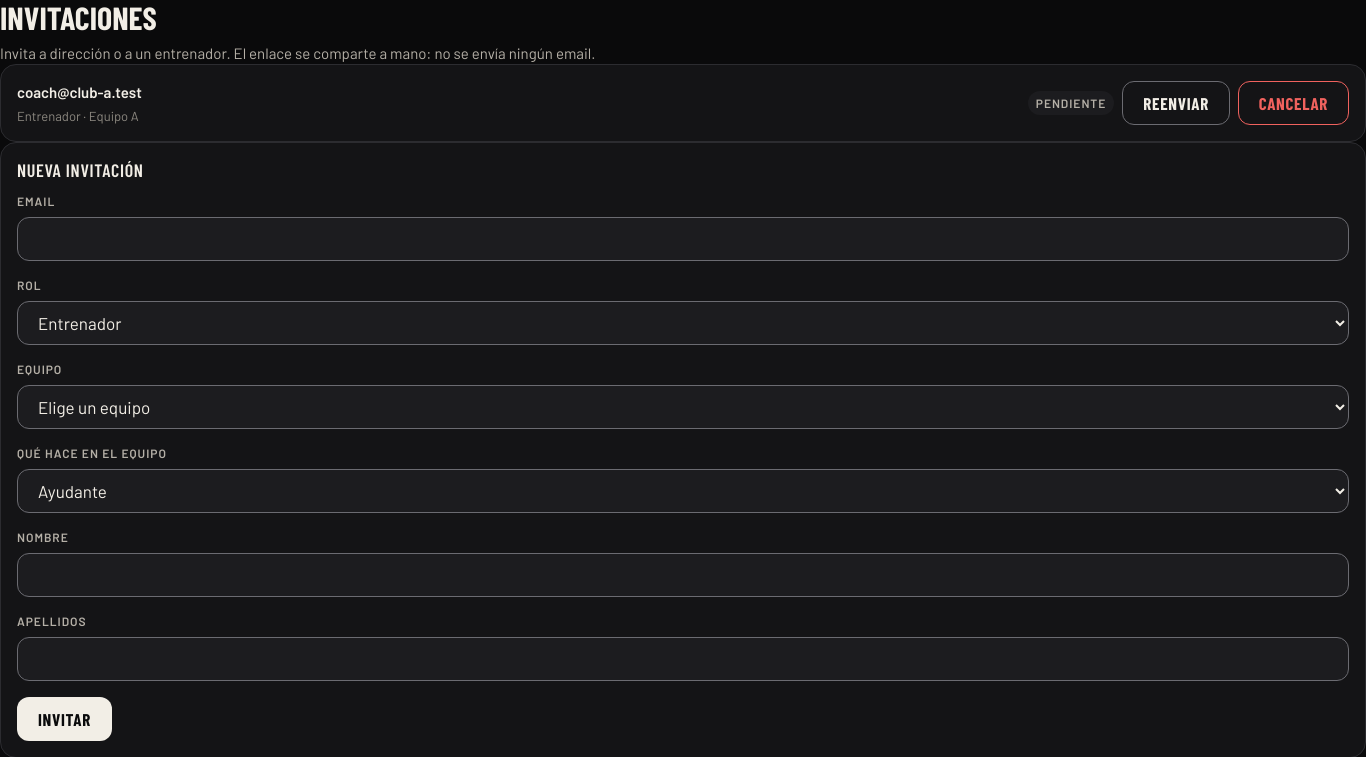
Test: InvitesScreen › reenviar pide un token nuevo y lo enseña
Click the button "Reenviar" at (1176, 103), box [1122,81,1230,125]
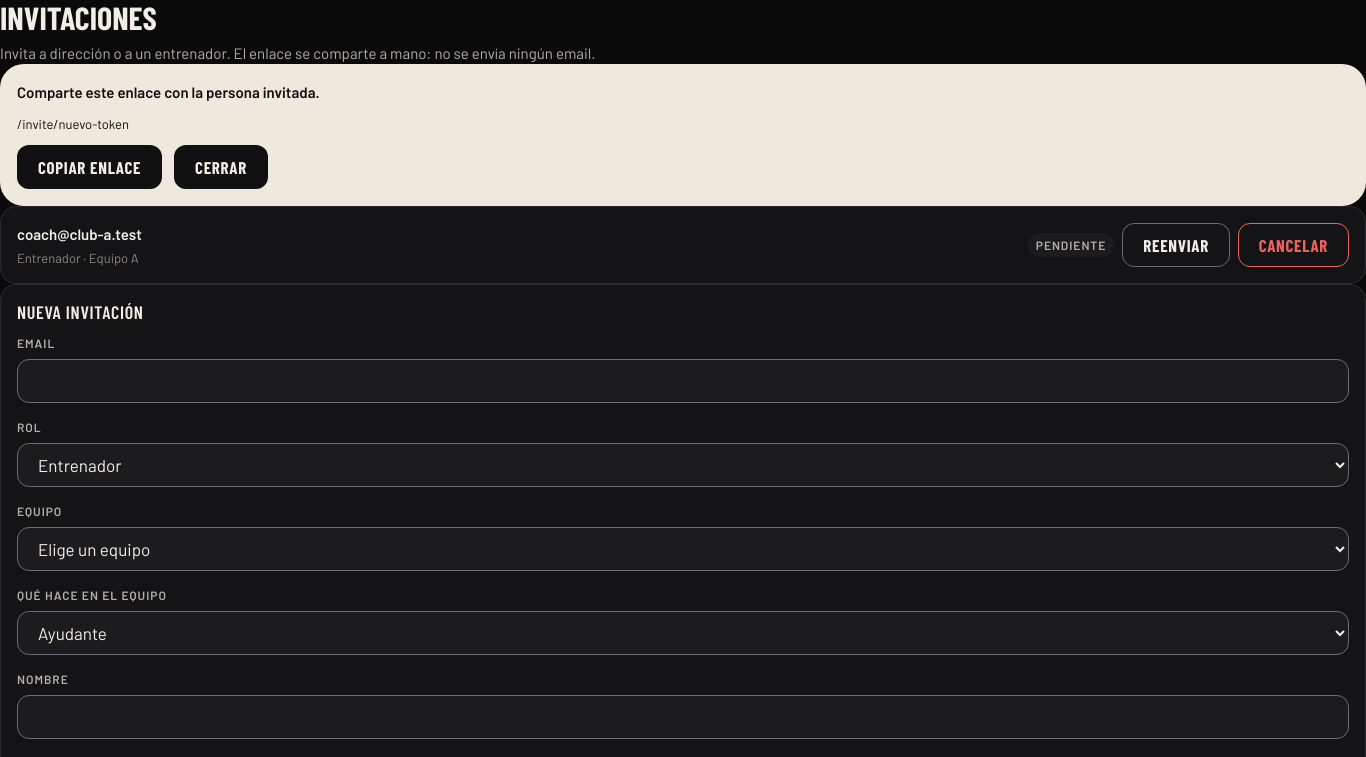
Check: the text "/invite/nuevo-token" is shown, box [17,116,129,132]
